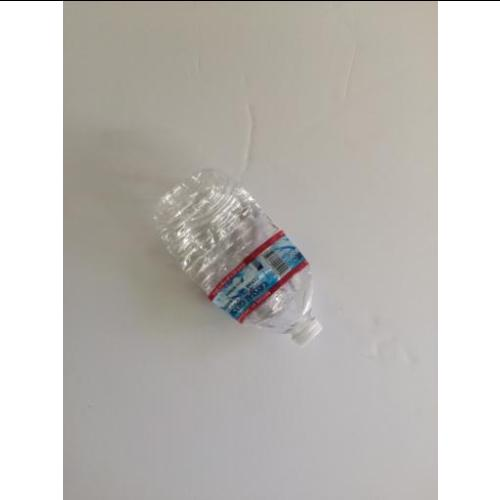plastic: (153, 170, 321, 341)
